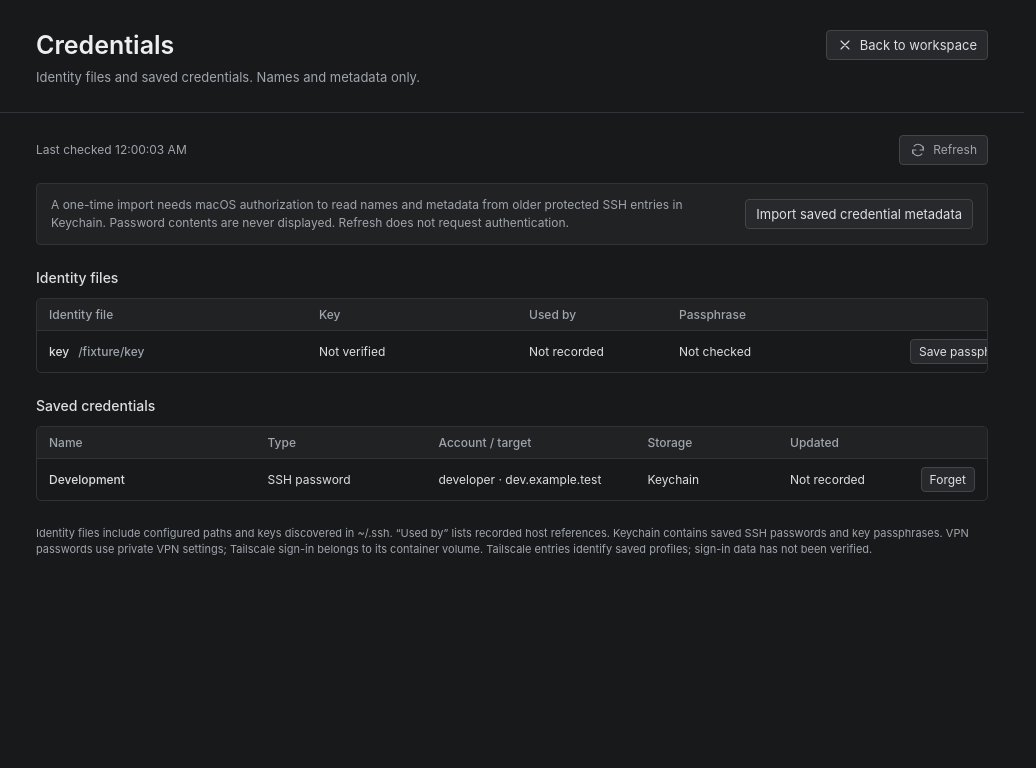
Saved credential metadata import › refreshes available metadata after credential_store_locked without hiding required state
The image size is (1036, 768).
What coordinates should you click on to do the following:
click the button "Import saved credential metadata"
I would click on:
 (859, 214)
Its box is [745, 198, 973, 228].
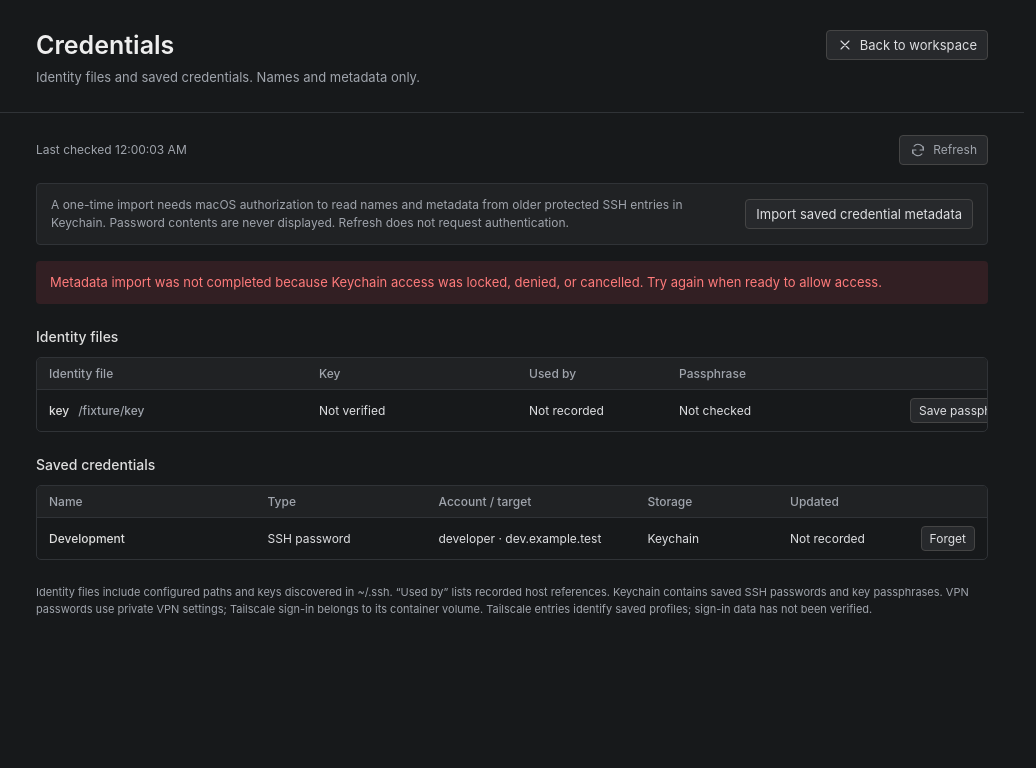
Expected: the text "Metadata import was not completed because Keychain access was locked, denied, or cancelled. Try again when ready to allo" is shown, [50, 274, 882, 290]
